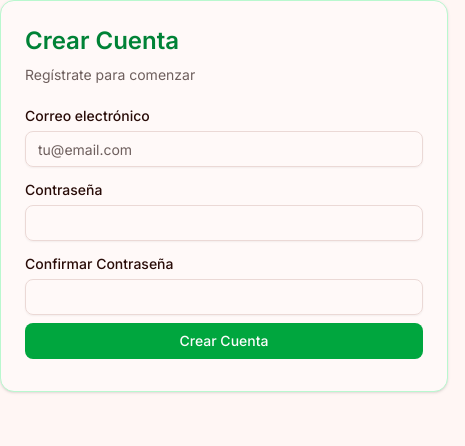
SignUpForm Component › debería validar que las contraseñas coincidan
Type "test@example.com" into the field labelled "Correo electrónico" at (224, 149), box [25,131,423,167]
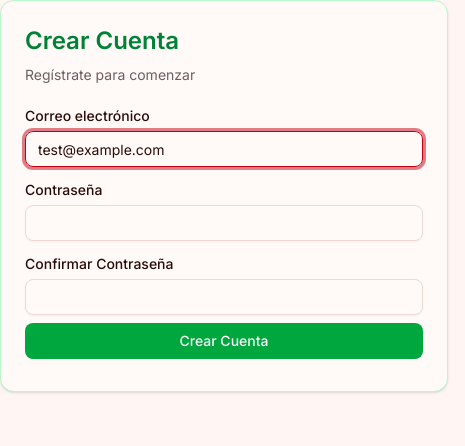
Type "password123" into the password field labelled "Contraseña" at (224, 223), box [25,205,423,241]
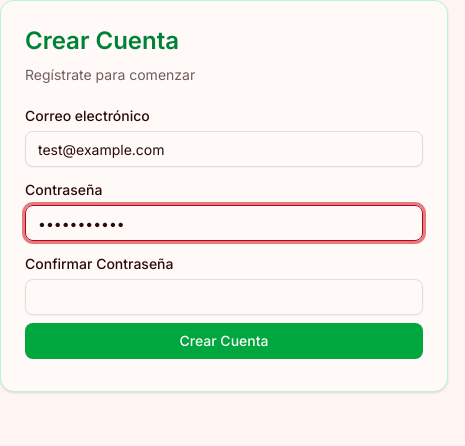
Type "password456" into the password field labelled "Confirmar Contraseña" at (224, 297), box [25,279,423,315]
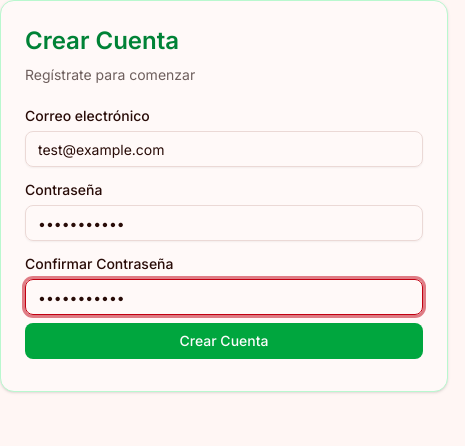
Click the button "Crear Cuenta" at (224, 341), box [25,323,423,359]
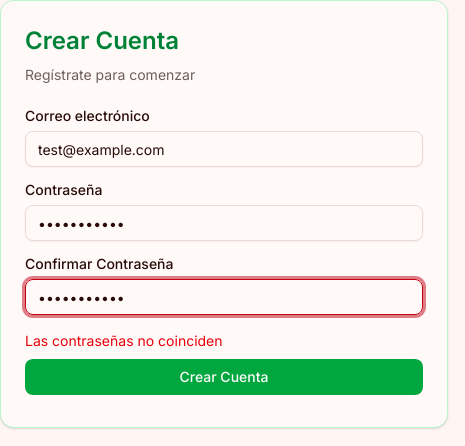
Expected: the text "Las contraseñas no coinciden" is shown, [25,332,222,349]
